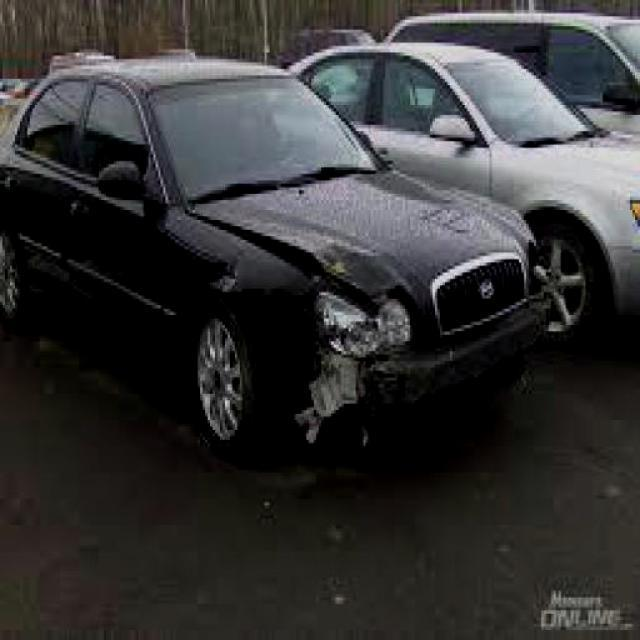car damage: (191, 207, 428, 457)
